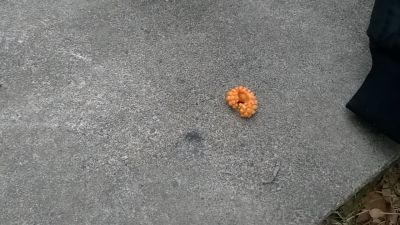eggs: (226, 85, 259, 119)
